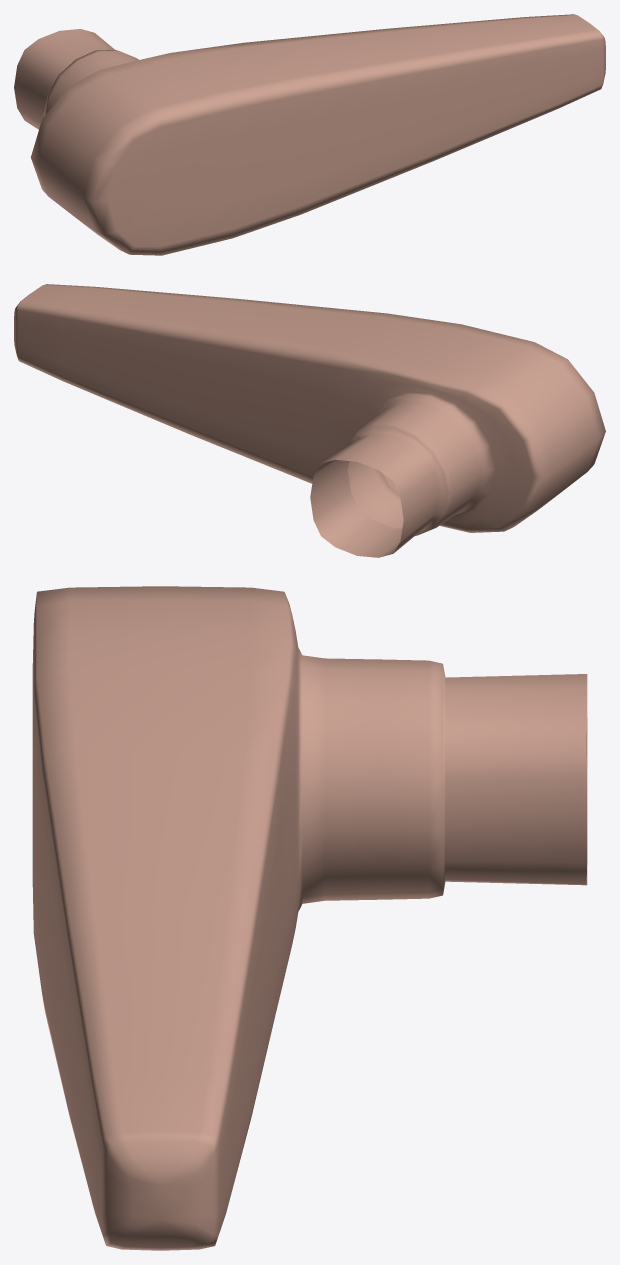
The model's file is SM_DoorRightHandle_01.fbx.
3 renders of one model, top to bottom at view 1: azimuth 30°, elevation 25°; view 2: azimuth 150°, elevation 25°; view 3: azimuth 270°, elevation 25°, orthographic. The views are drawn at different scales.
Visible parts, largest first — view 1: DoorRightHandle_01; view 2: DoorRightHandle_01; view 3: DoorRightHandle_01.
Boxes of the visible parts, <box> form: DoorRightHandle_01: <box>14,14,605,255</box>; DoorRightHandle_01: <box>14,284,605,557</box>; DoorRightHandle_01: <box>32,586,587,1250</box>.
Bounding box in the file's own units: 17.65 × 4.51 × 7.84.
